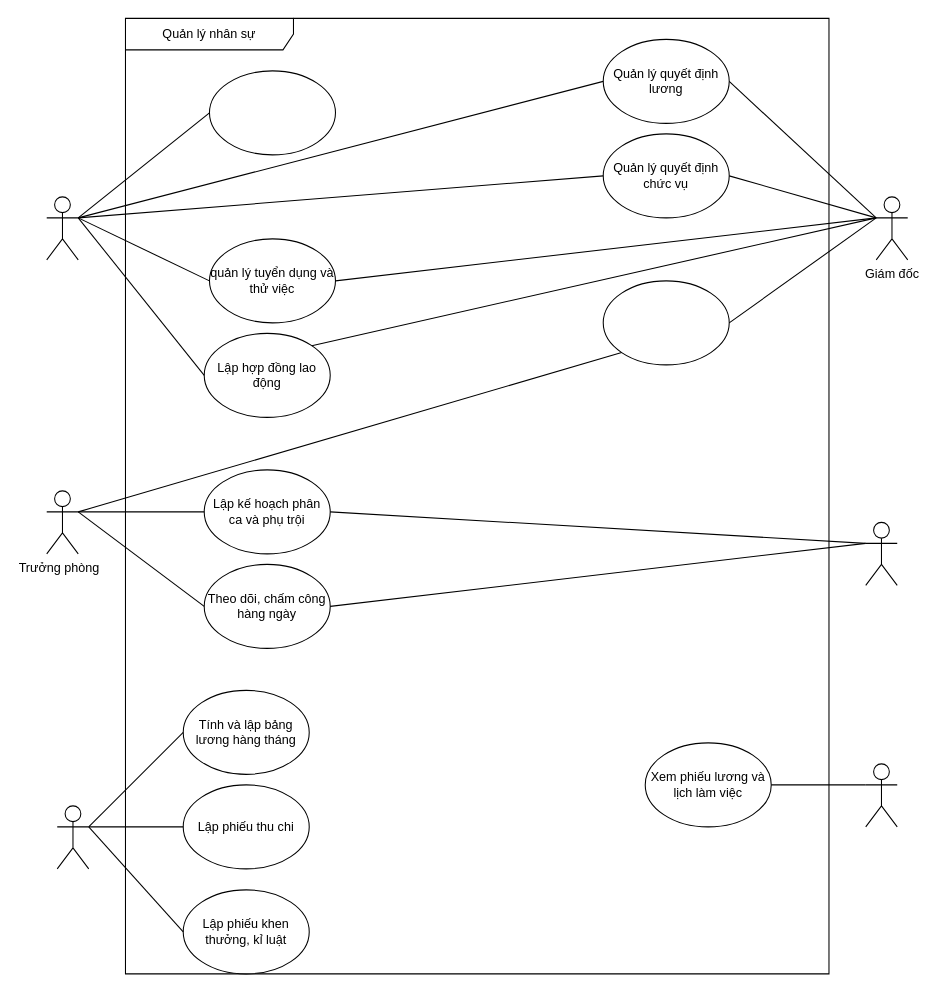
The diagram is 943 pixels wide and 992 high, and some of its shapes have lost their labels. The shapes that lost their labels are listed below. From the top down, each one's box as (x1, y1, x2, y2) in pixels, then its label:
(208, 70, 335, 155): quản lý hồ sơ bảo hiểm
(46, 196, 78, 260): NV Tuyển dụng
(602, 280, 729, 365): Quản lý quyết định khen thưởng/kỉ luật
(865, 521, 897, 585): Ban chấm công
(865, 763, 897, 827): Nhân viên
(56, 805, 89, 869): Nhân viên kế toán
